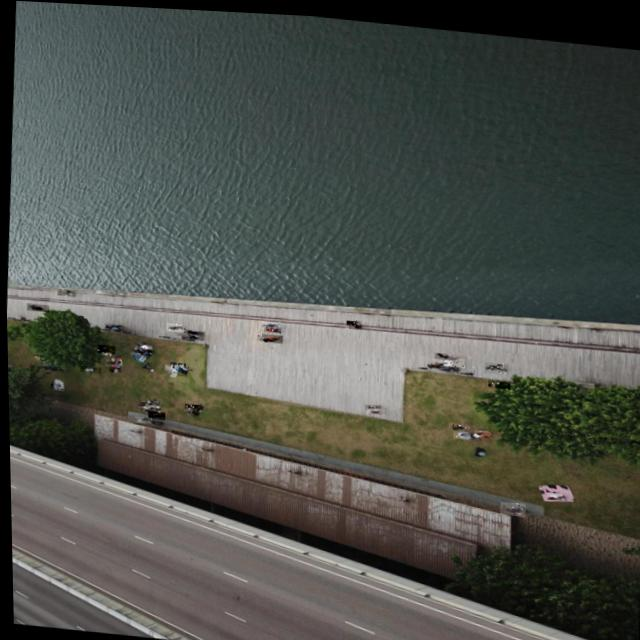Person: (498, 495, 524, 511), (482, 356, 508, 369), (438, 351, 463, 363), (447, 416, 470, 427), (258, 317, 281, 327), (260, 330, 281, 340), (26, 302, 48, 311), (486, 374, 508, 383), (426, 356, 445, 366), (165, 320, 184, 330), (180, 327, 203, 335), (545, 485, 565, 494), (176, 360, 187, 376), (56, 287, 75, 296), (146, 408, 163, 418), (79, 364, 100, 372), (96, 343, 114, 352), (452, 425, 469, 434), (433, 347, 451, 355), (366, 403, 384, 411), (134, 414, 152, 422), (185, 331, 202, 339), (473, 423, 489, 431), (262, 323, 280, 330), (183, 401, 198, 409), (256, 332, 275, 338), (363, 400, 379, 407), (136, 346, 150, 354), (346, 316, 358, 324), (138, 341, 151, 348), (103, 321, 116, 328), (108, 322, 120, 329), (186, 406, 196, 414), (49, 381, 59, 389), (163, 362, 174, 369), (108, 365, 119, 371), (102, 357, 113, 363), (129, 350, 140, 355), (100, 350, 110, 354)
